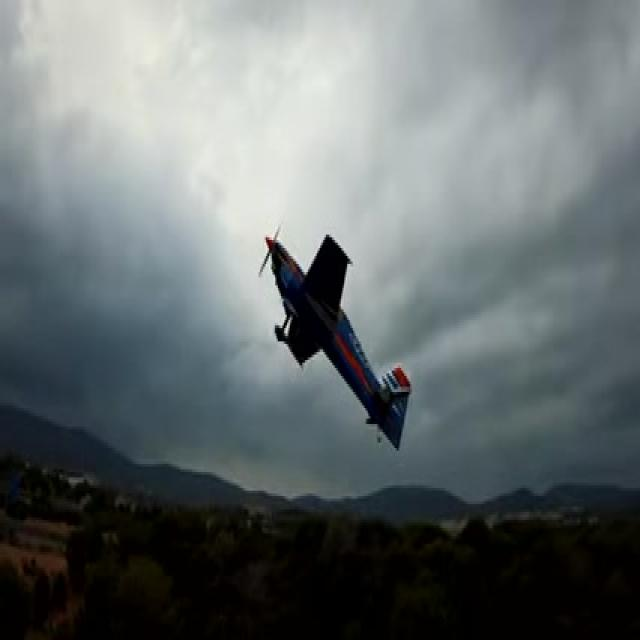iha: (257, 220, 414, 454)
